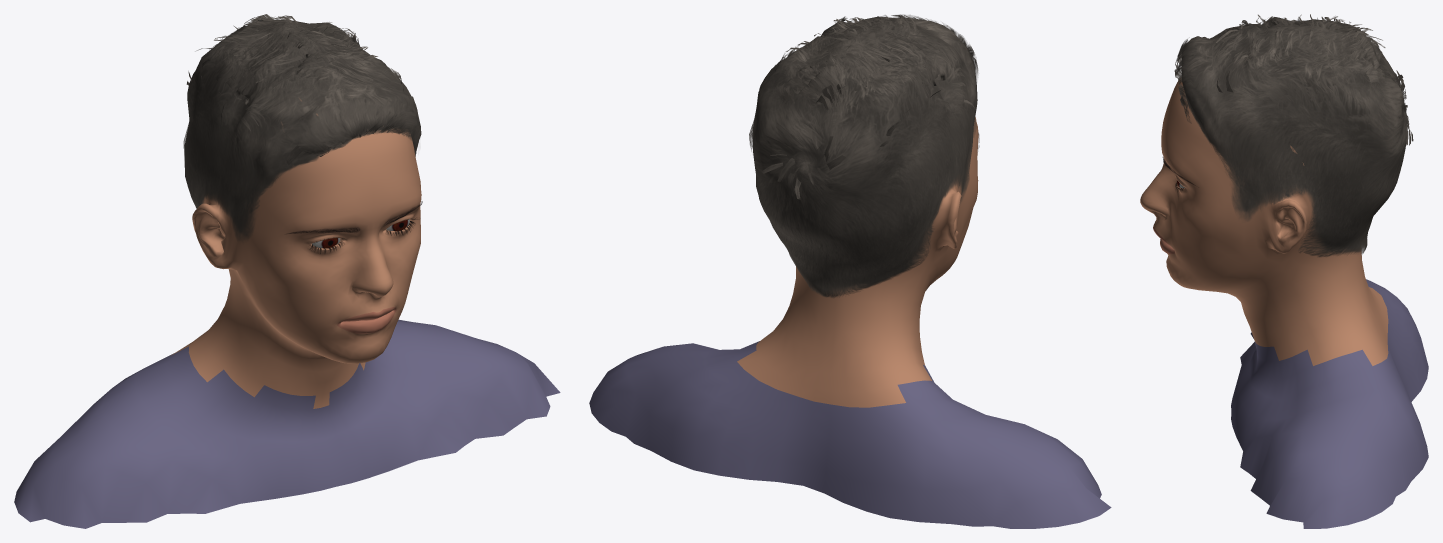
The model's file is neutral-08.glb.
3 renders of one model, left to right at view 1: azimuth 30°, elevation 25°; view 2: azimuth 150°, elevation 25°; view 3: azimuth 270°, elevation 25°, orthographic. The views are drawn at different scales.
Parts seen in each view (by area): view 1: mpfb-face, mpfb-face.short01; view 2: mpfb-face, mpfb-face.short01; view 3: mpfb-face, mpfb-face.short01.
Part boxes in pixels (x1,y1,x2,y2): mpfb-face: (14,98,560,528); mpfb-face.short01: (183,14,421,241); mpfb-face: (589,117,1111,528); mpfb-face.short01: (749,14,978,297); mpfb-face: (1140,78,1428,528); mpfb-face.short01: (1174,14,1413,257).
Size of the model in its own units: 0.4448 by 0.3459 by 0.2325.
9 materials, 6 textured.
